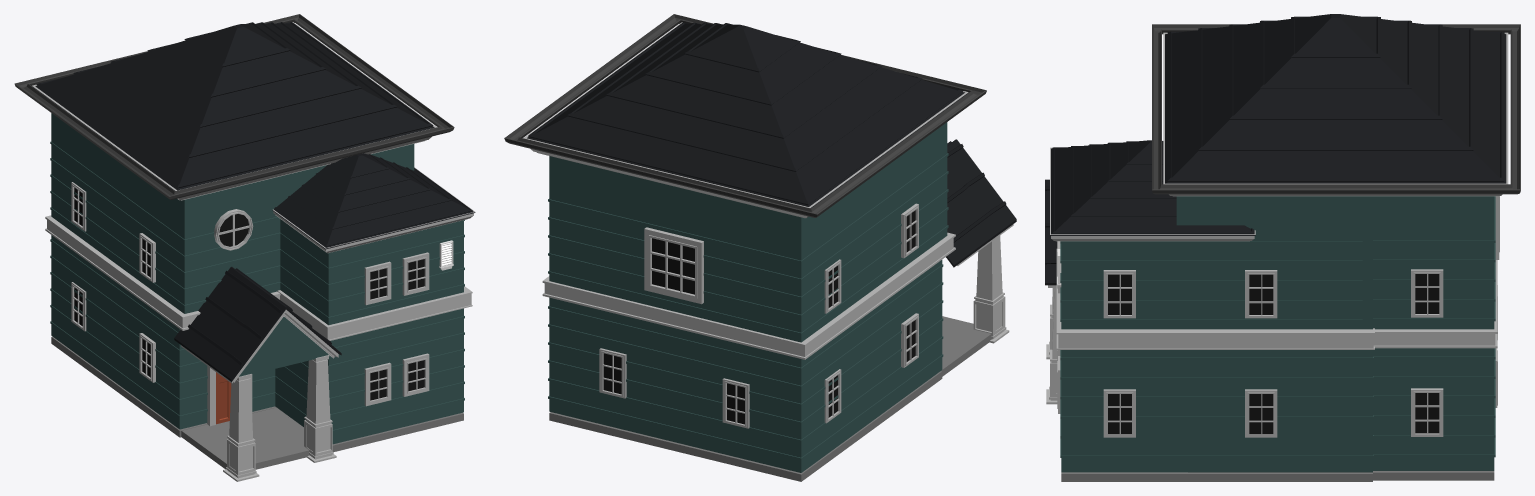
The model's file is SM_house_suburb_002.fbx.
3 renders of one model, left to right at view 1: azimuth 30°, elevation 25°; view 2: azimuth 150°, elevation 25°; view 3: azimuth 270°, elevation 25°, orthographic. The views are drawn at different scales.
Visible parts, largest first — view 1: Box5892; view 2: Box5892; view 3: Box5892.
Boxes of the visible parts, bbox=[...] form: Box5892: bbox=[14, 14, 475, 481]; Box5892: bbox=[504, 14, 1016, 481]; Box5892: bbox=[1045, 14, 1520, 481].
Bounding box in the file's own units: 365 × 412 × 442.
